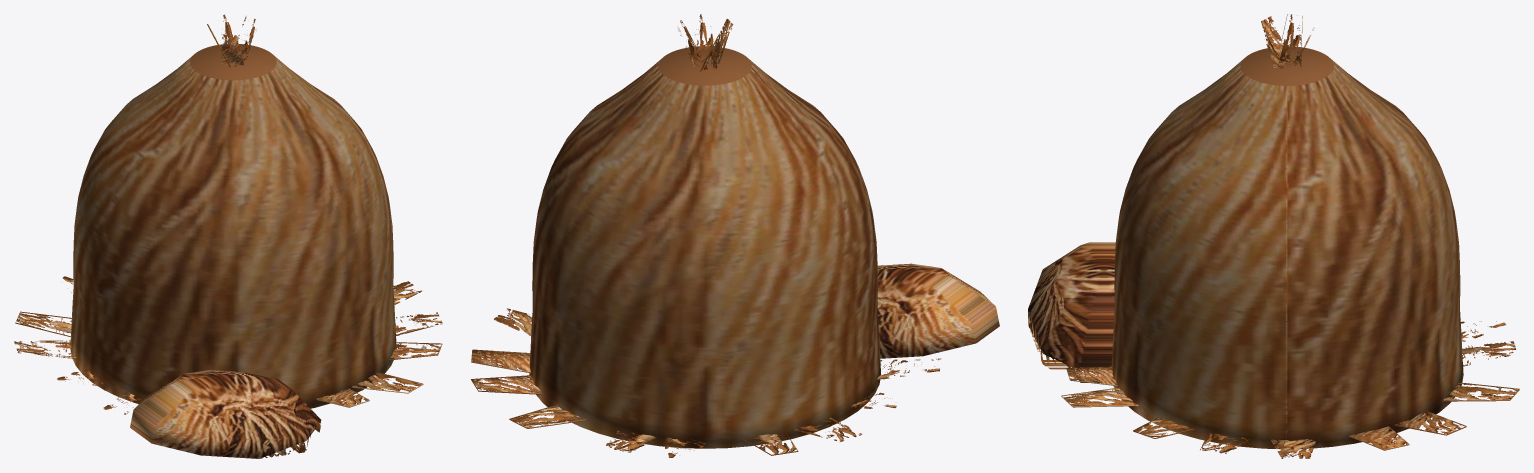
Rendered from toad-prop3d-haystack.glb.
3 renders of one model, left to right at view 1: azimuth 30°, elevation 25°; view 2: azimuth 150°, elevation 25°; view 3: azimuth 270°, elevation 25°, orthographic. The views are drawn at different scales.
Parts seen in each view (by area): view 1: hay; view 2: hay; view 3: hay.
Boxes of the visible parts, x1,y1,x2,y2 form: hay: [14, 14, 442, 458]; hay: [471, 14, 999, 457]; hay: [1028, 14, 1519, 458].
Size of the model in its own units: 0.18 by 0.16 by 0.1934.
1 material, 1 textured.
